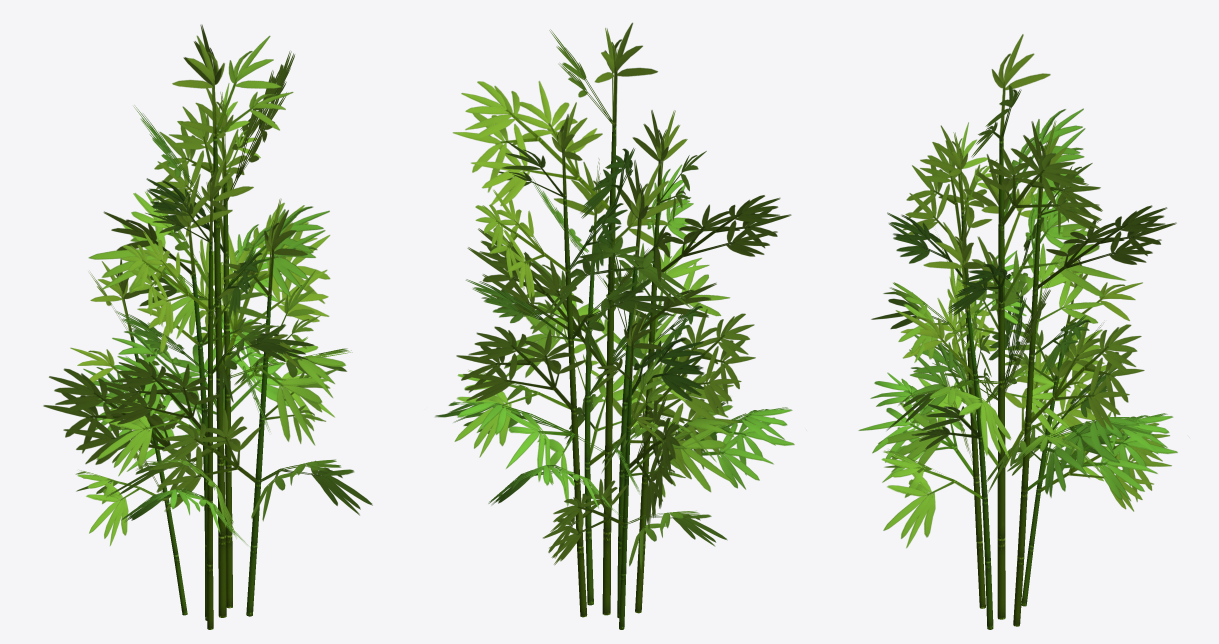
The model's file is highDraco.glb.
3 views of the same model, side by side, from view 1: azimuth 30°, elevation 25°; view 2: azimuth 150°, elevation 25°; view 3: azimuth 270°, elevation 25° (orthographic). The views are drawn at different scales.
Parts seen in each view (by area): view 1: bamboo1obj; view 2: bamboo1obj; view 3: bamboo1obj.
Part boxes in pixels (x1,y1,x2,y2): bamboo1obj: (43, 24, 372, 629); bamboo1obj: (435, 22, 794, 629); bamboo1obj: (858, 34, 1177, 629).
Bounding box in the file's own units: 24.13 × 43.75 × 24.34.
Materials: 1 (1 with a texture image).
